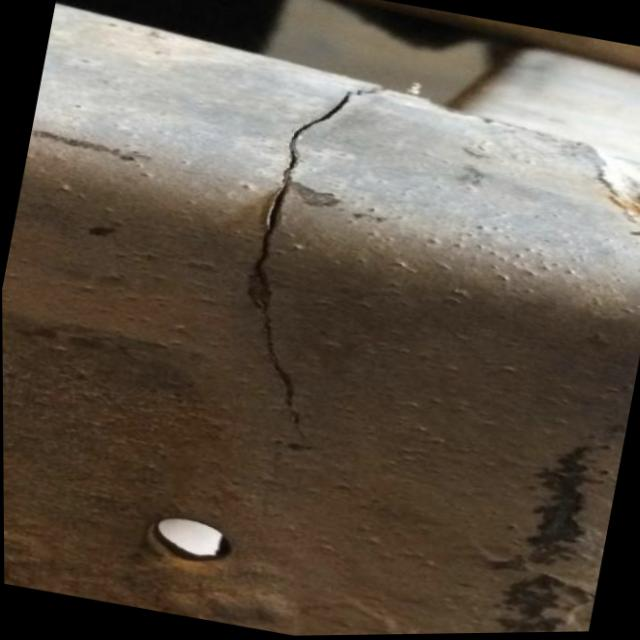Crack: (206, 59, 389, 442)
